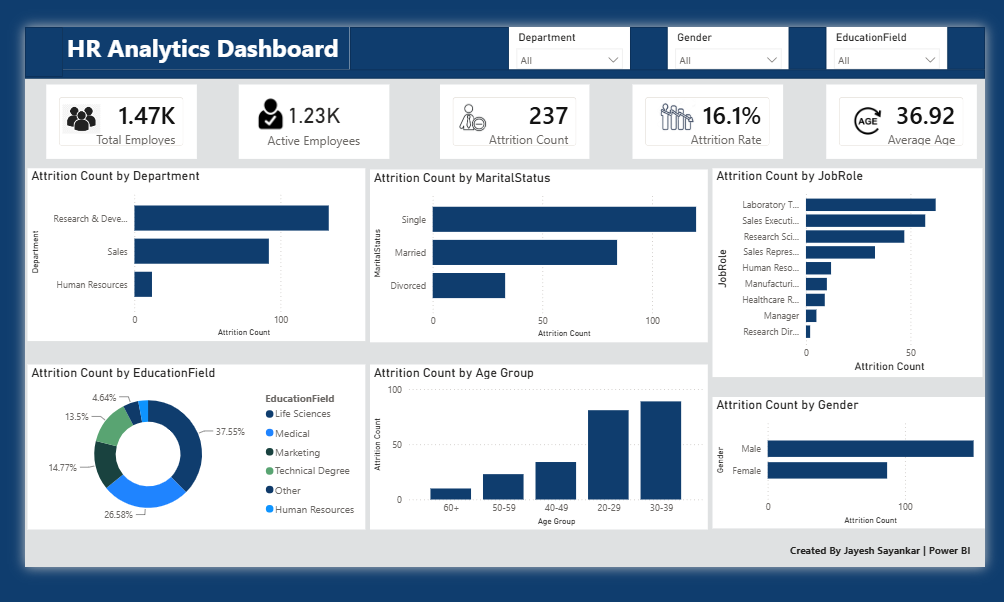

Layout of this report page (visuals, bound fields, positions):
{"tool":"powerbi","page":{"name":"Page 1","canvas":[1280,720],"ordinal":0},"visuals":[{"type":"cardVisual","fields":{"Data":["Count(HR_Analytics.EmployeeNumber)"]},"box":[28.9,76.5,200.5,99.6],"z":0},{"type":"cardVisual","fields":{"Data":["HR_Analytics.Attrition Count"]},"box":[552.6,76.5,199.1,99.6],"z":1000},{"type":"card","fields":{"Values":["HR_Analytics.Active Employees"]},"box":[285.7,76.5,200.5,99.6],"z":2000},{"type":"cardVisual","fields":{"Data":["HR_Analytics.Attrition Rate","select"]},"box":[809.4,76.5,200.5,99.6],"z":3000},{"type":"cardVisual","fields":{"Data":["HR_Analytics.Average Age"]},"box":[1069.1,76.5,200.5,99],"z":4000},{"type":"clusteredBarChart","fields":{"Category":["HR_Analytics.Gender"],"Y":["HR_Analytics.Attrition Count"]},"box":[916.7,493.3,363.3,175],"z":5000},{"type":"donutChart","fields":{"Category":["HR_Analytics.EducationField"],"Y":["HR_Analytics.Attrition Count"]},"box":[4,450,450,220],"z":6000},{"type":"clusteredBarChart","fields":{"Category":["HR_Analytics.JobRole"],"Y":["HR_Analytics.Attrition Count"]},"box":[916,188,360,278],"z":7000},{"type":"clusteredColumnChart","fields":{"Y":["HR_Analytics.Attrition Count"],"Category":["HR_Analytics.Age Group"]},"box":[460,449.2,450,220],"z":8000},{"type":"clusteredBarChart","fields":{"Category":["HR_Analytics.Department"],"Y":["HR_Analytics.Attrition Count"]},"box":[4,188,450,230],"z":9000},{"type":"clusteredBarChart","fields":{"Category":["HR_Analytics.MaritalStatus"],"Y":["HR_Analytics.Attrition Count"]},"box":[460,190,450,230],"z":10000},{"type":"slicer","fields":{"Values":["HR_Analytics.Department"]},"box":[645,0,161.7,56.7],"z":11000},{"type":"slicer","fields":{"Values":["HR_Analytics.Gender"]},"box":[856.7,0,161.7,56.7],"z":12000},{"type":"slicer","fields":{"Values":["HR_Analytics.EducationField"]},"box":[1068,0,161,56],"z":13000},{"type":"textbox","box":[50.5,0,382.3,56.3],"z":14000},{"type":"shape","box":[433.3,0,211.7,66.7],"z":15000},{"type":"shape","box":[806.7,0,50,66.7],"z":16000},{"type":"shape","box":[1018.3,0,50,56.7],"z":17000},{"type":"shape","box":[1230,0,50,56.7],"z":18000},{"type":"shape","box":[0,56,1280,12],"z":19000},{"type":"shape","box":[0,0,50.5,66.4],"z":20000},{"type":"image","box":[50,95,50,55],"z":21000},{"type":"image","box":[306.2,95,41.2,41.2],"z":22000},{"type":"image","box":[1098.3,100,50,50],"z":23000},{"type":"image","box":[573.3,98.9,45.6,45.6],"z":24000},{"type":"image","box":[808,96,120,42],"z":25000},{"type":"textbox","box":[1015,683.3,265,36.7],"z":26000}]}

Visuals, with their boxes on the page's 1280x720 design canvas (x1, y1, x2, y2). These are canvas units, not pixel positions in the 1004x602 screenshot, which may show the page scaled, cropped or inside an application window:
cardVisual - Count(HR_Analytics.EmployeeNumber): (29, 76, 229, 176)
cardVisual - HR_Analytics.Attrition Count: (553, 76, 752, 176)
card - HR_Analytics.Active Employees: (286, 76, 486, 176)
cardVisual - HR_Analytics.Attrition Rate x select: (809, 76, 1010, 176)
cardVisual - HR_Analytics.Average Age: (1069, 76, 1270, 176)
clusteredBarChart - HR_Analytics.Gender x HR_Analytics.Attrition Count: (917, 493, 1280, 668)
donutChart - HR_Analytics.EducationField x HR_Analytics.Attrition Count: (4, 450, 454, 670)
clusteredBarChart - HR_Analytics.JobRole x HR_Analytics.Attrition Count: (916, 188, 1276, 466)
clusteredColumnChart - HR_Analytics.Attrition Count x HR_Analytics.Age Group: (460, 449, 910, 669)
clusteredBarChart - HR_Analytics.Department x HR_Analytics.Attrition Count: (4, 188, 454, 418)
clusteredBarChart - HR_Analytics.MaritalStatus x HR_Analytics.Attrition Count: (460, 190, 910, 420)
slicer - HR_Analytics.Department: (645, 0, 807, 57)
slicer - HR_Analytics.Gender: (857, 0, 1018, 57)
slicer - HR_Analytics.EducationField: (1068, 0, 1229, 56)
textbox: (50, 0, 433, 56)
shape: (433, 0, 645, 67)
shape: (807, 0, 857, 67)
shape: (1018, 0, 1068, 57)
shape: (1230, 0, 1280, 57)
shape: (0, 56, 1280, 68)
shape: (0, 0, 50, 66)
image: (50, 95, 100, 150)
image: (306, 95, 347, 136)
image: (1098, 100, 1148, 150)
image: (573, 99, 619, 144)
image: (808, 96, 928, 138)
textbox: (1015, 683, 1280, 720)
